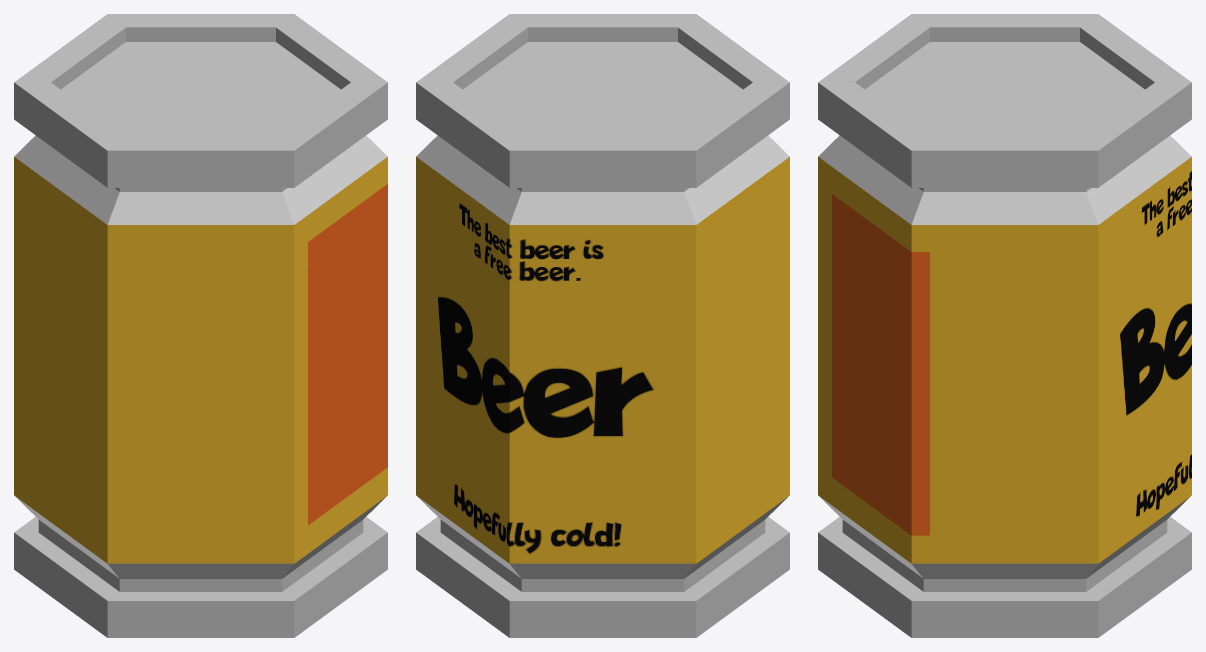
The model's file is Beer.fbx.
3 renders of one model, left to right at view 1: azimuth 30°, elevation 25°; view 2: azimuth 150°, elevation 25°; view 3: azimuth 270°, elevation 25°, orthographic.
Parts seen in each view (by area): view 1: Cylinder; view 2: Cylinder; view 3: Cylinder.
Boxes of the visible parts, box(x1,y1,x2,y2) form: Cylinder: box(14, 14, 387, 637); Cylinder: box(416, 14, 789, 637); Cylinder: box(818, 14, 1191, 637).
Bounding box in the file's own units: 173 × 288 × 200.
